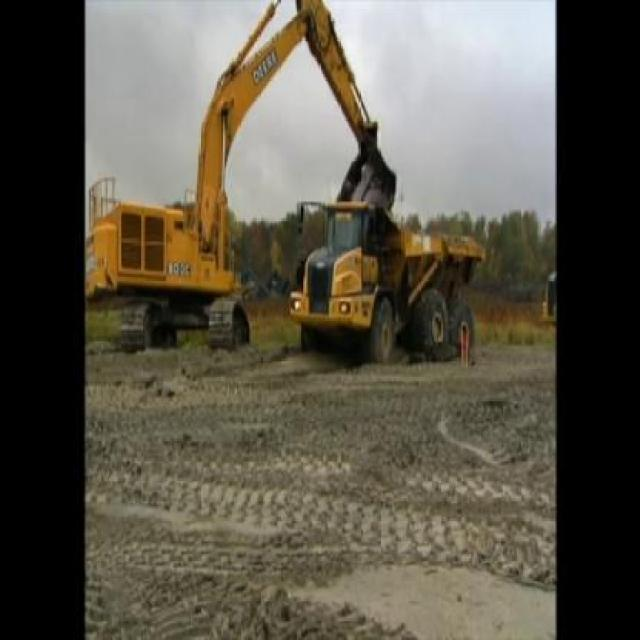Dump Truck: (292, 186, 488, 365)
Excavator: (86, 0, 398, 358)
